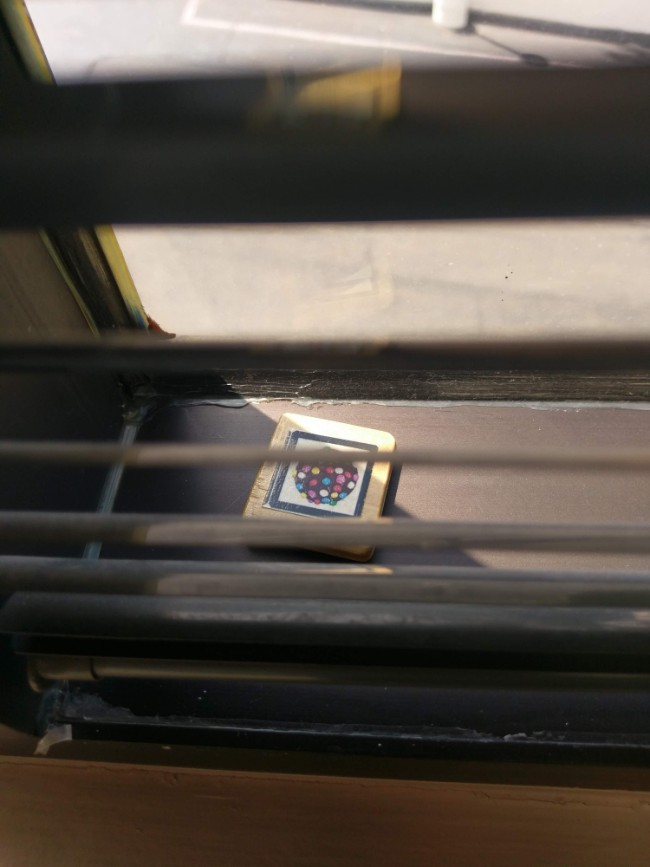cookie: (243, 426, 387, 539)
